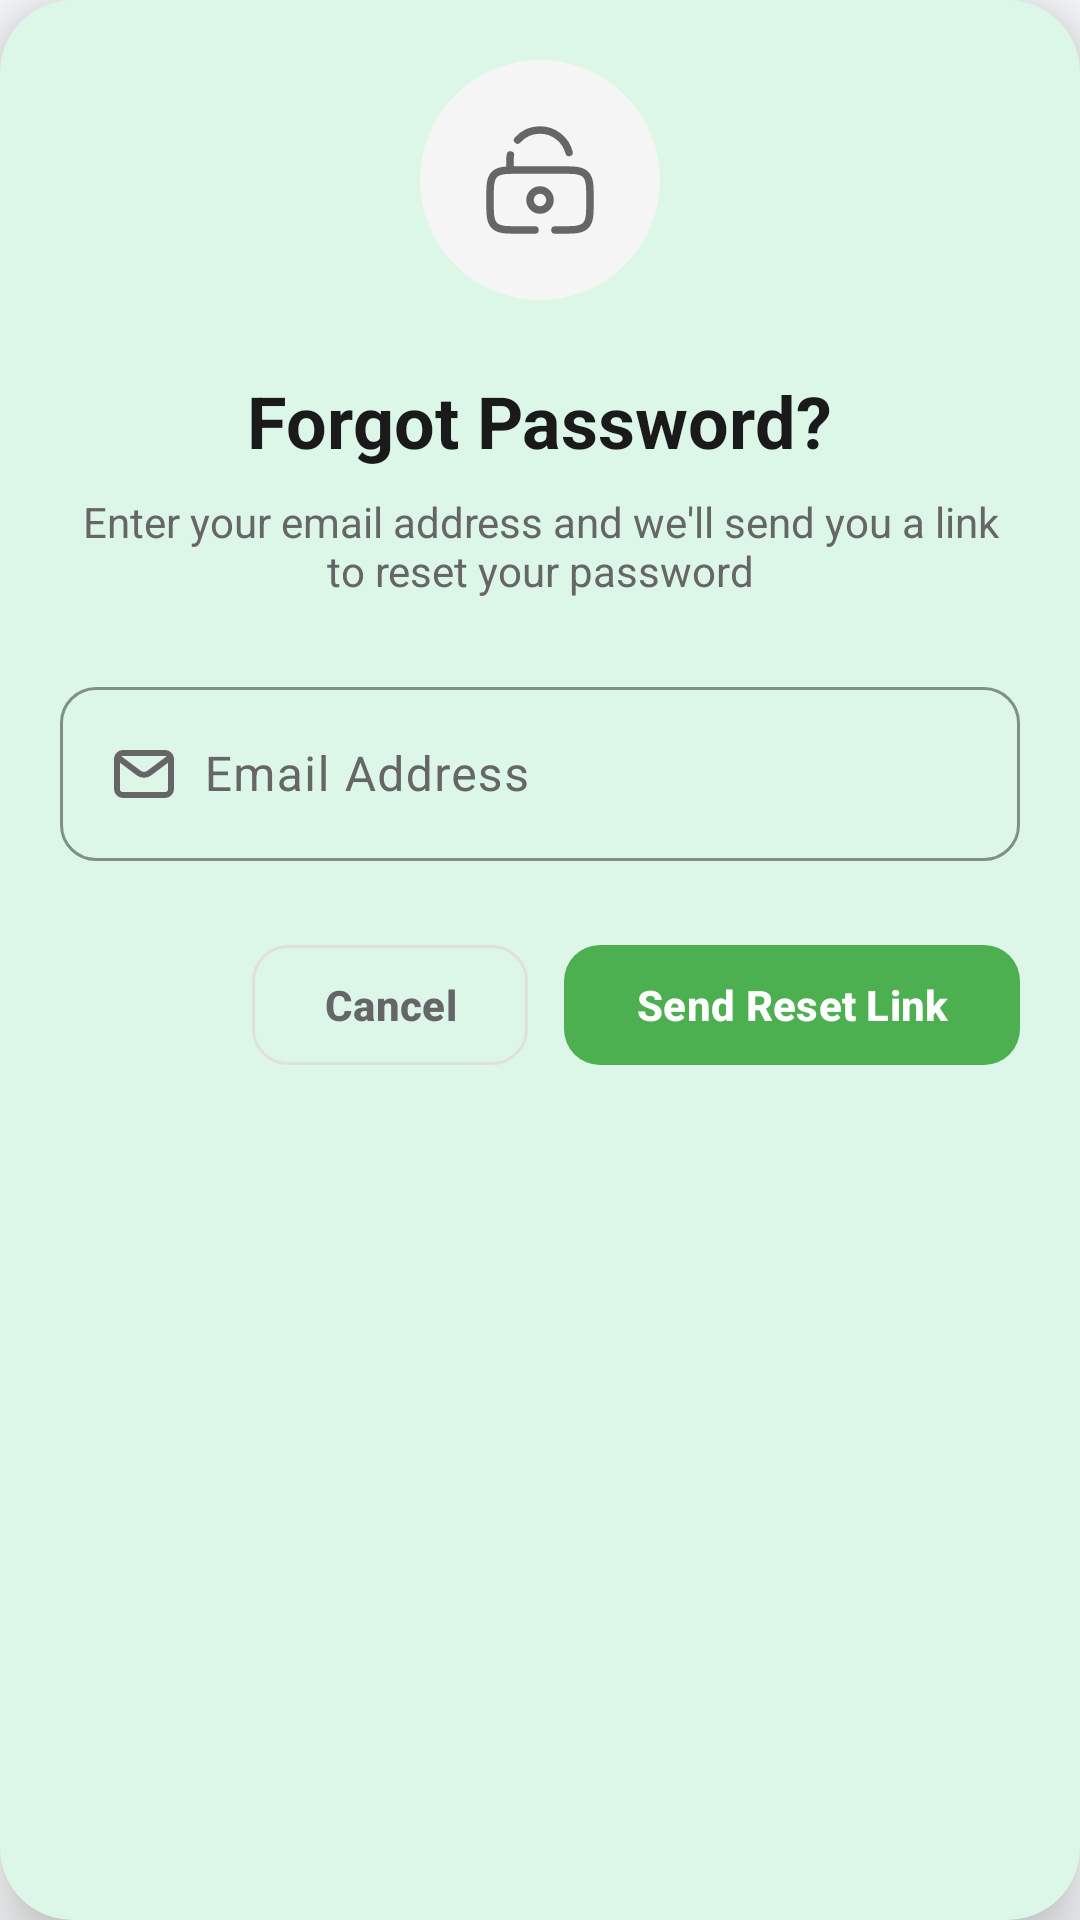

Icons on this 1080 x 1920 Android screen, each with its box as (x1, y1, x2, y2):
lock: (421, 60, 659, 300)
